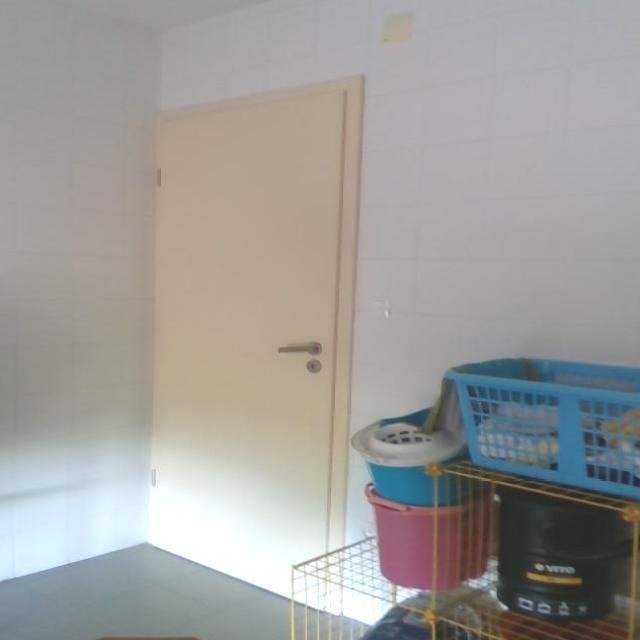door: (148, 76, 359, 608)
